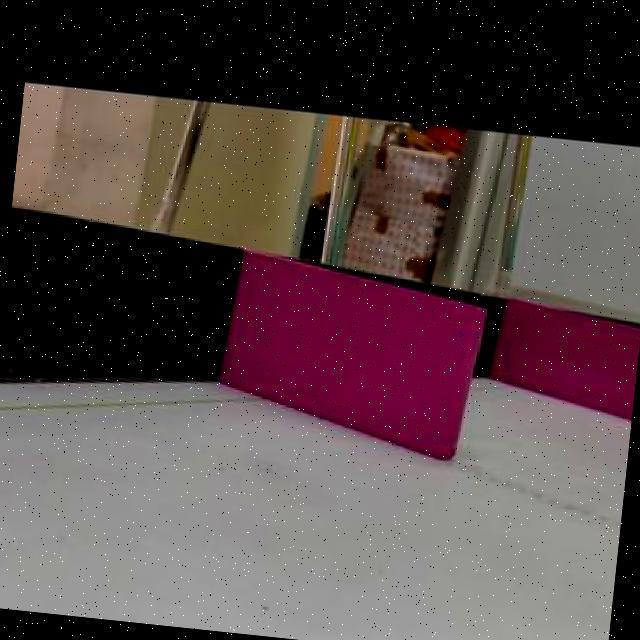xparking: (219, 280, 472, 434), (497, 315, 640, 408)
